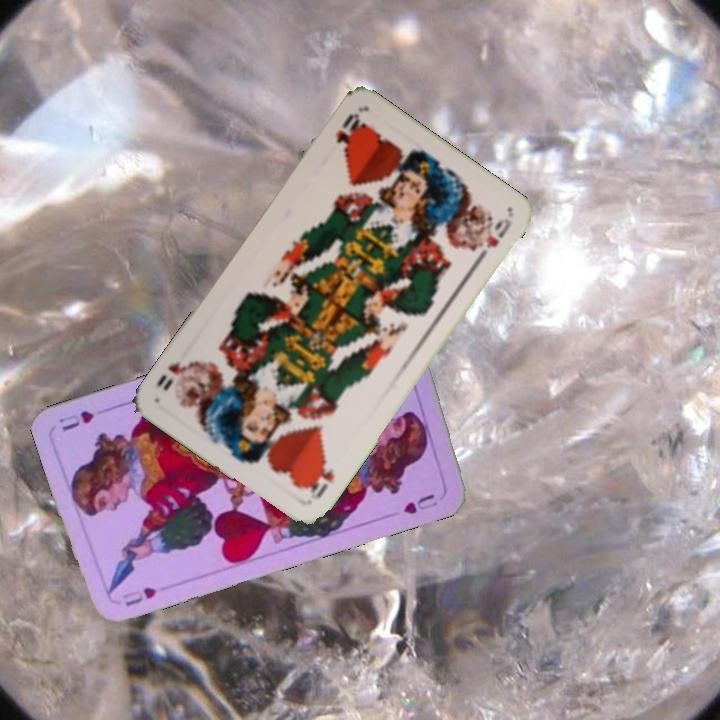HO: (331, 109, 366, 154), (303, 456, 337, 502)
HU: (118, 583, 159, 609)
